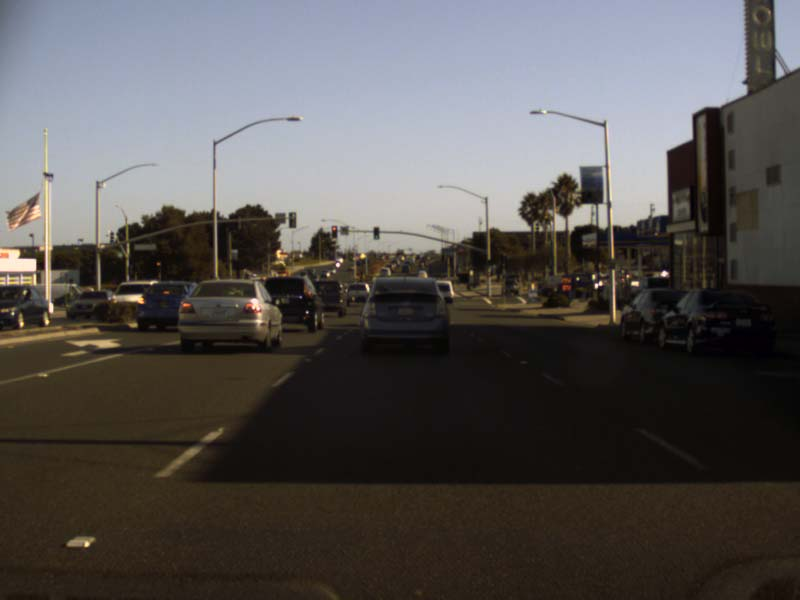Green: (372, 226, 379, 239), (487, 260, 491, 268)
Red: (330, 226, 337, 238), (155, 260, 161, 272)
